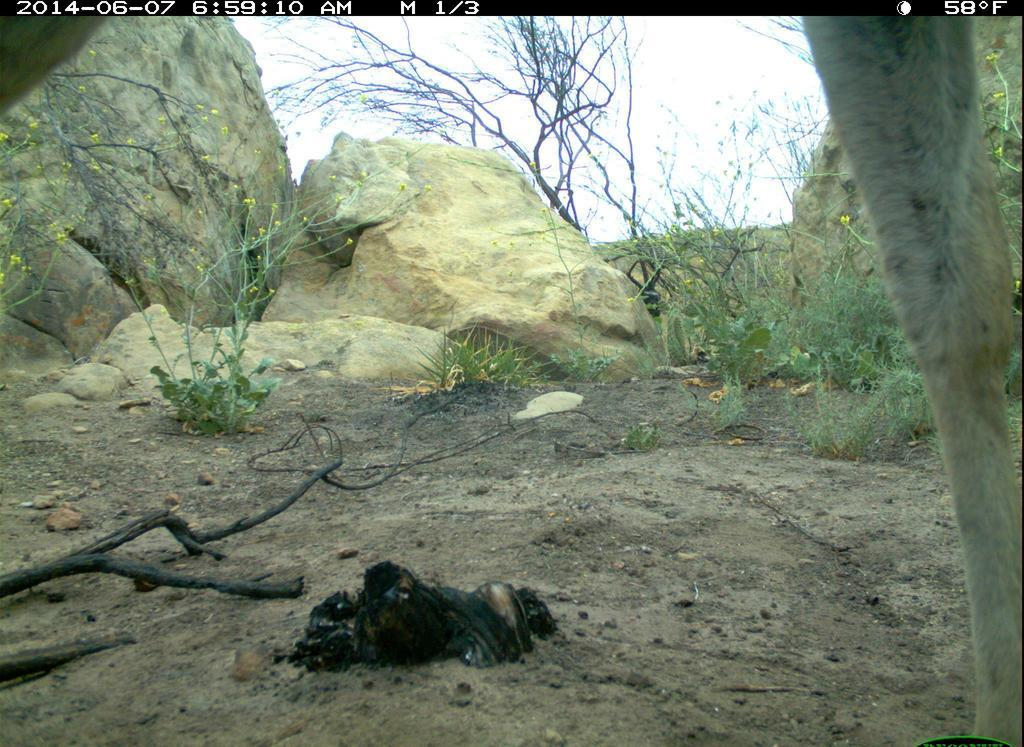deer: (739, 12, 1022, 739)
